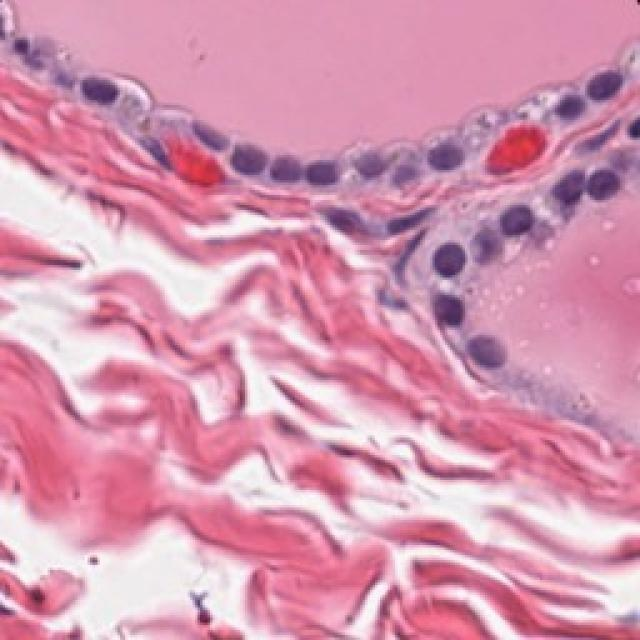normal: (422, 108, 486, 193), (445, 323, 518, 387), (415, 225, 482, 290), (573, 54, 637, 114), (260, 135, 312, 205), (345, 136, 407, 192), (290, 144, 343, 208), (68, 63, 122, 125), (487, 193, 552, 243), (220, 132, 278, 188), (417, 287, 473, 340), (547, 164, 600, 219), (547, 83, 595, 135)
